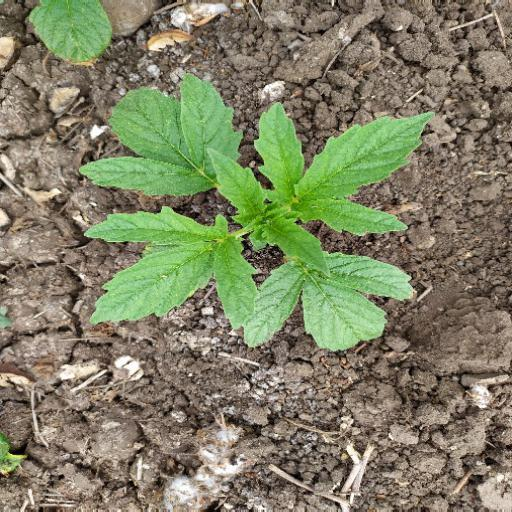crop: (87, 80, 428, 380)
